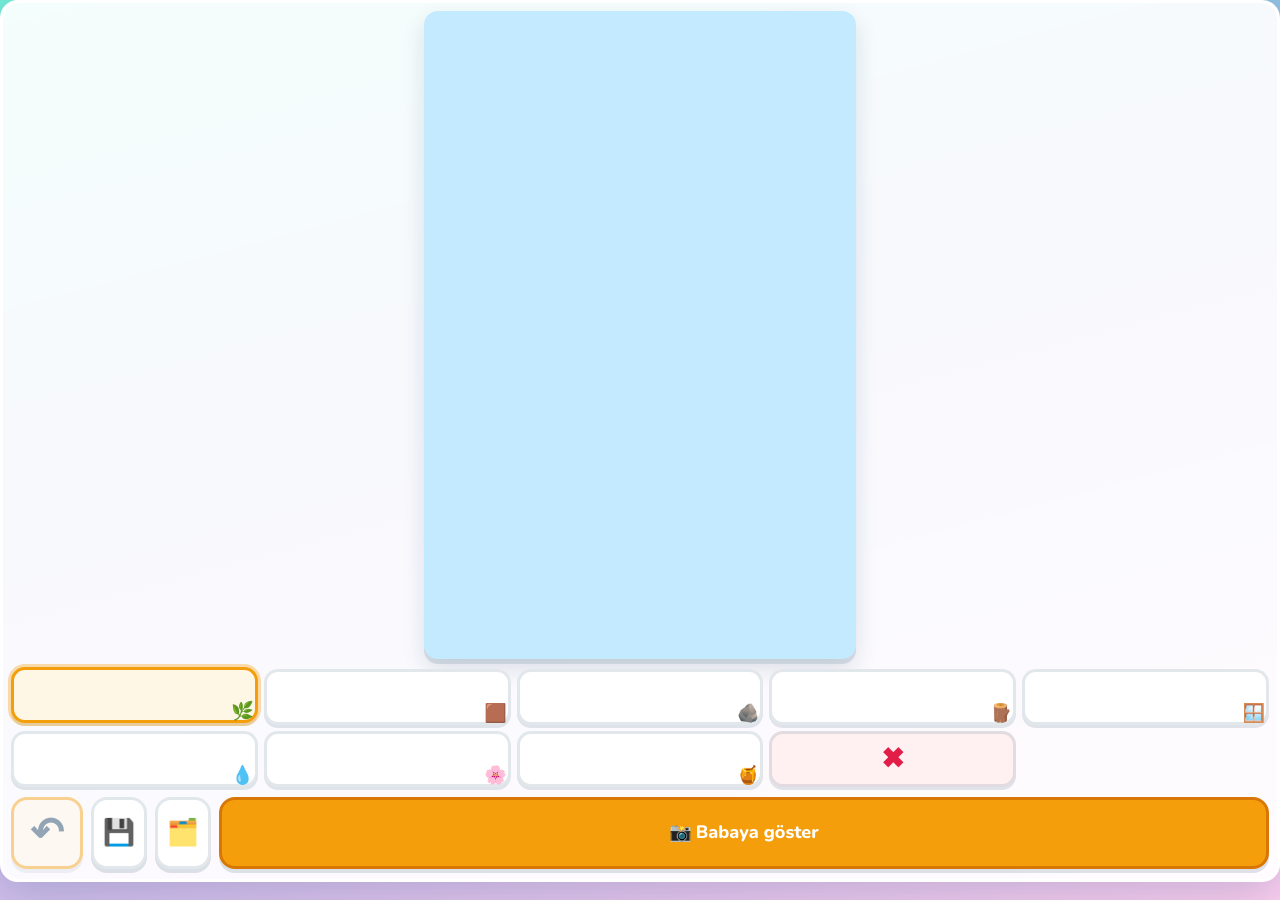
BlockWorld › dokun = koy, geri al, kaydet ve babaya göster
Later steps or results of the test are not shown.
Expected: the button named "Geri al" is disabled, [11,797,83,869]
Click the button named "Bal": (640, 759) [517,731,763,787]
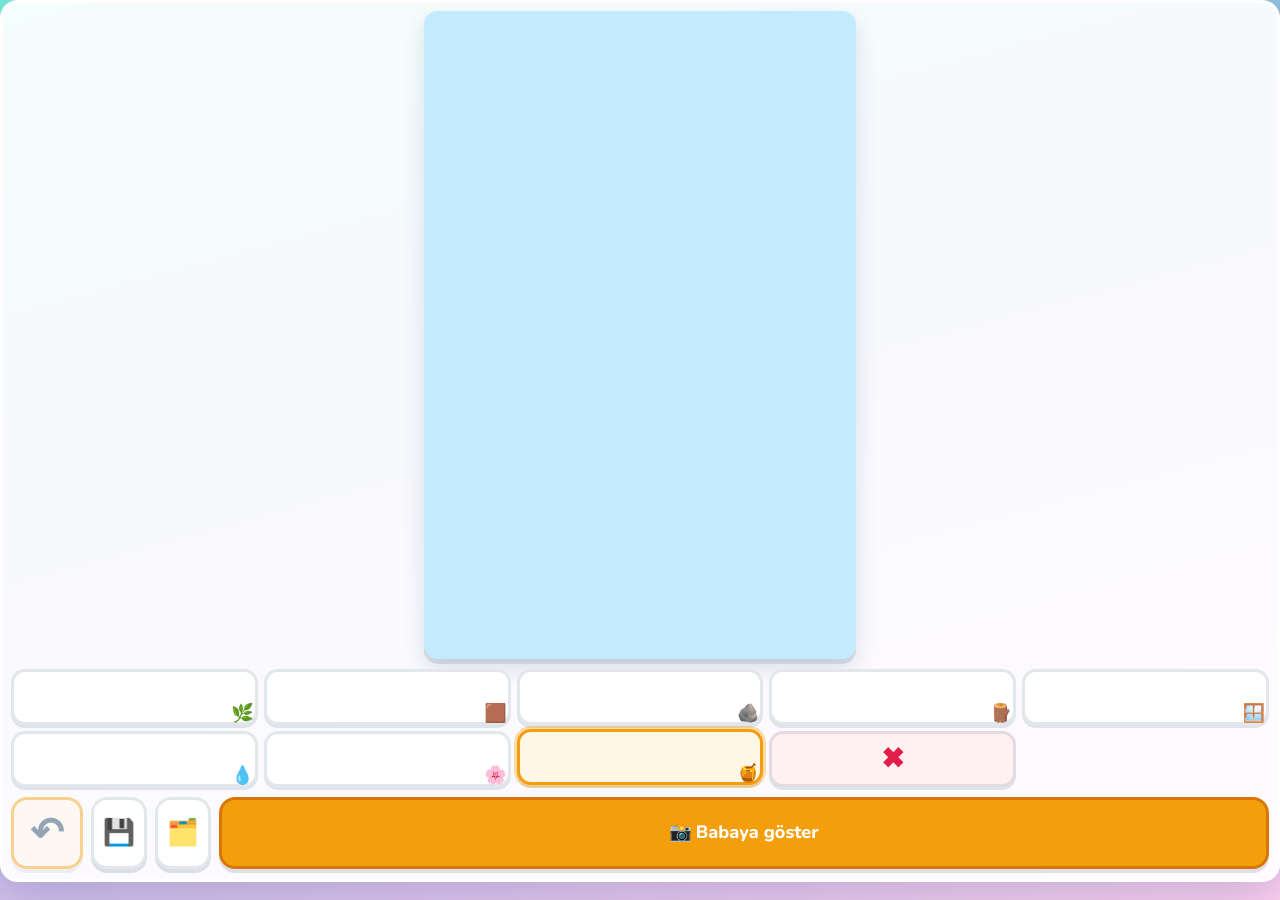
Expected: the button named "Bal" is pressed, [517,729,763,785]
Press the mouse on the picture with class "blk-canvas": (640, 335) [424,11,856,659]
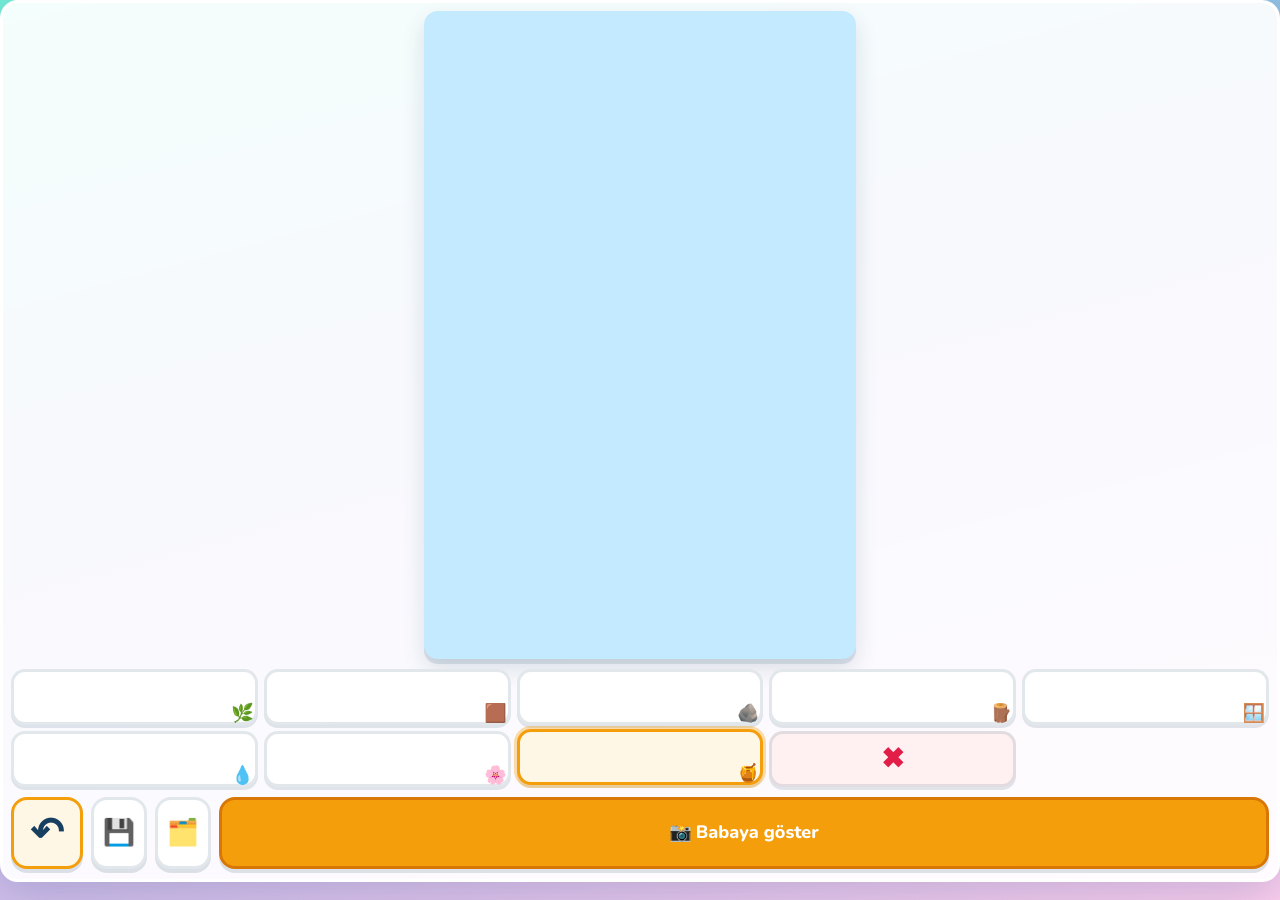
Expected: the button named "Geri al" is enabled, [11,797,83,869]
Click the button named "Kaydet": (119, 833) [91,797,147,869]
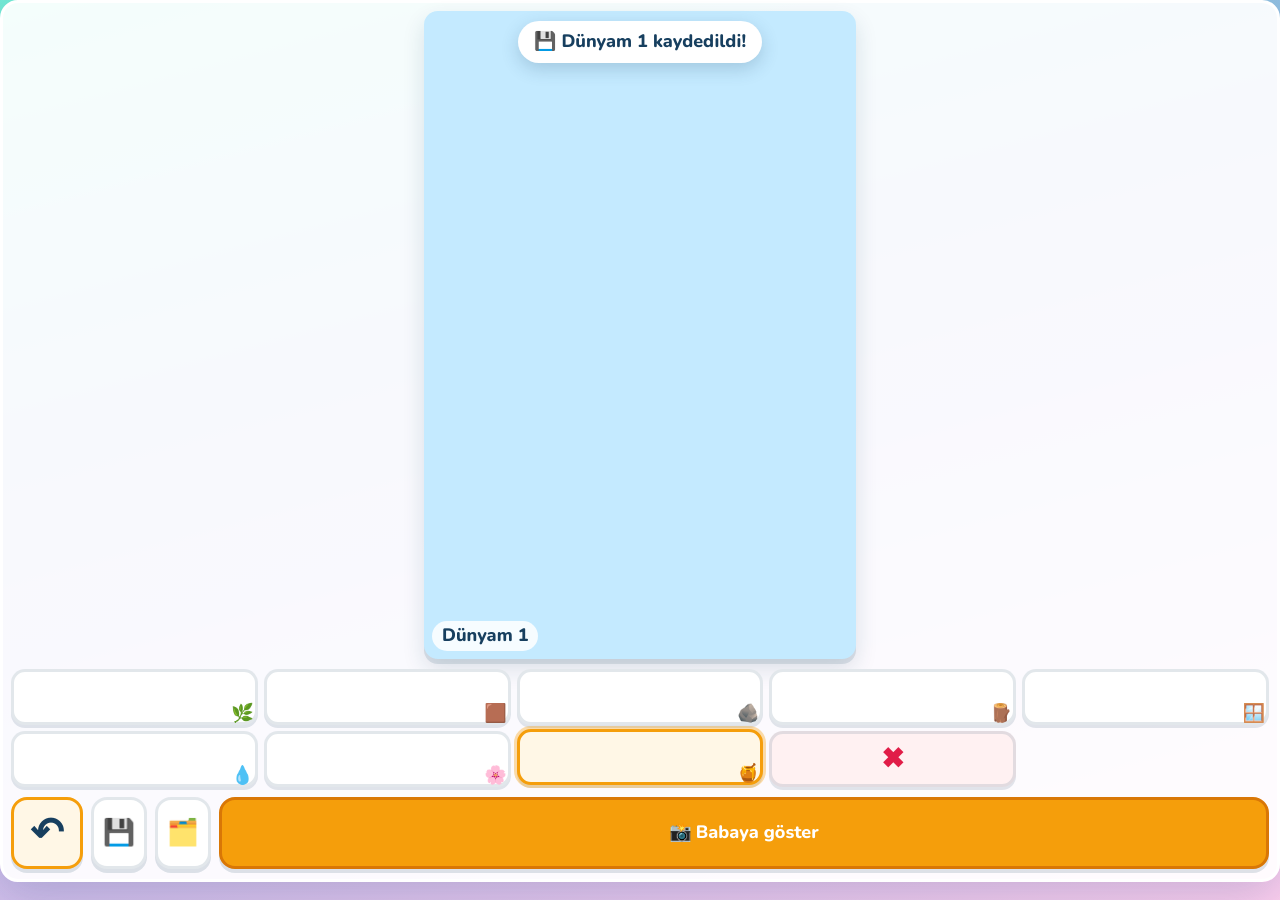
Expected: the text "Dünyam 1" is shown, [432,621,538,651]
Click the button named "Geri al": (47, 833) [11,797,83,869]
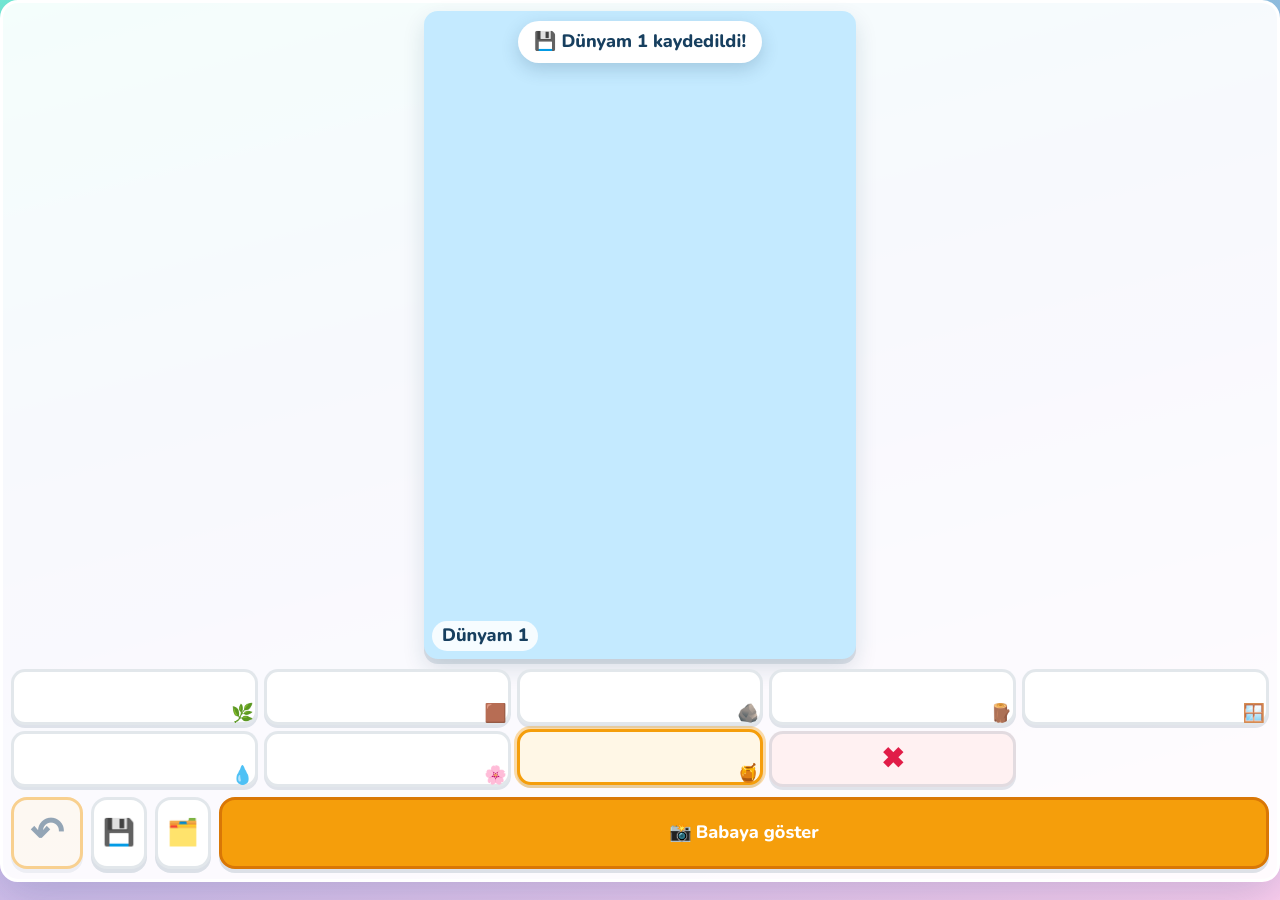
Expected: the button named "Geri al" is disabled, [11,797,83,869]
